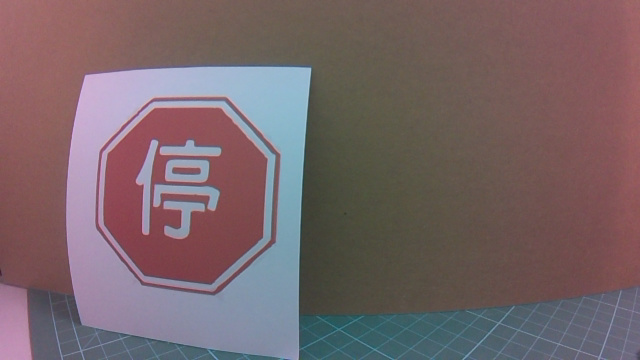stop: (101, 94, 287, 300)
